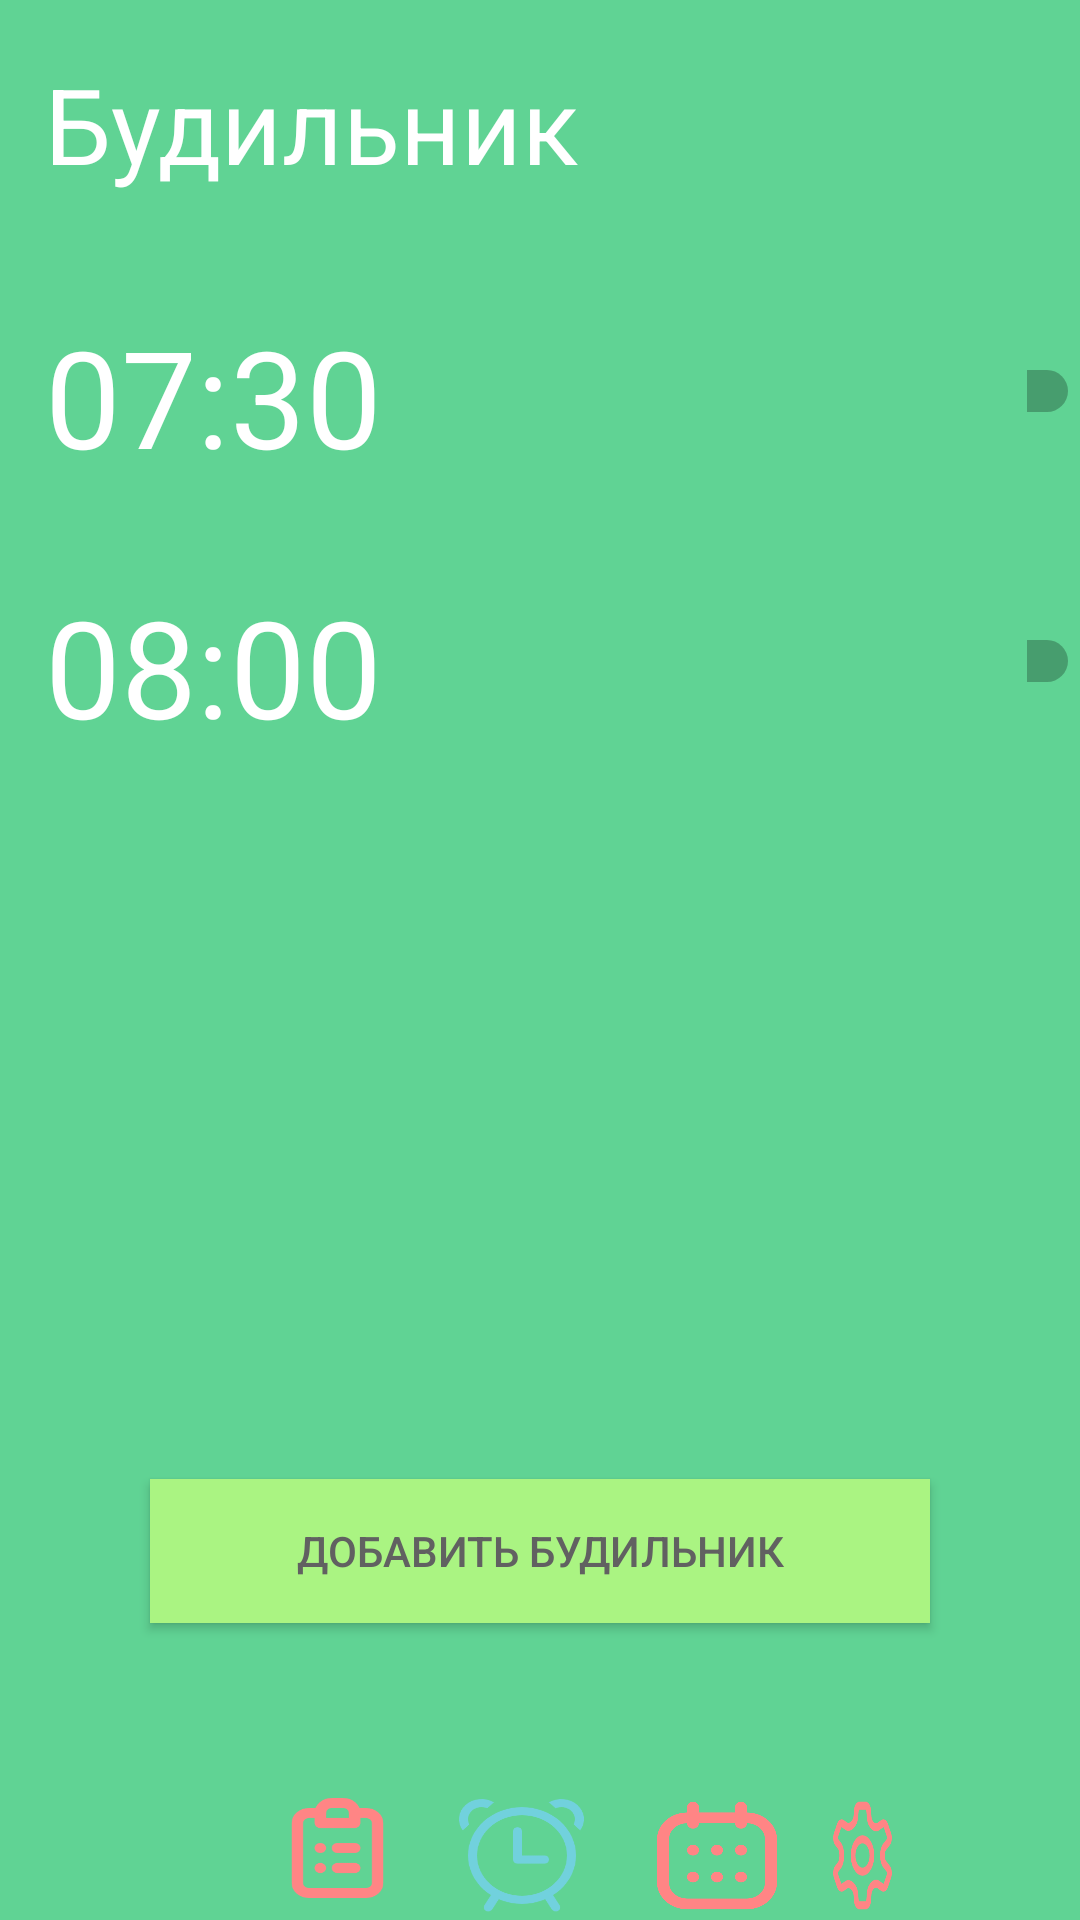

Screen size 1080×1920. Icon name, then its box in pixels as rect(x1, y1, x2, y2):
Будильник: rect(459, 1799, 584, 1911)
Календарь: rect(657, 1802, 777, 1909)
Настройки: rect(833, 1801, 892, 1910)
Список: rect(291, 1798, 384, 1898)
